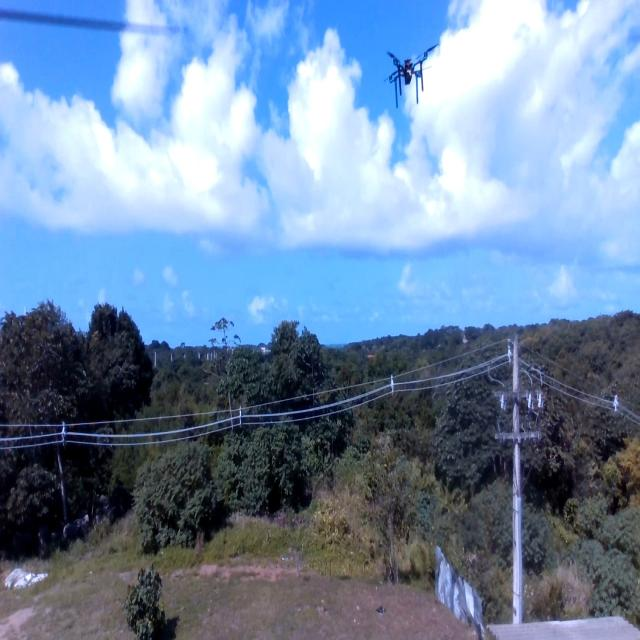-uav-: (372, 27, 447, 127)
